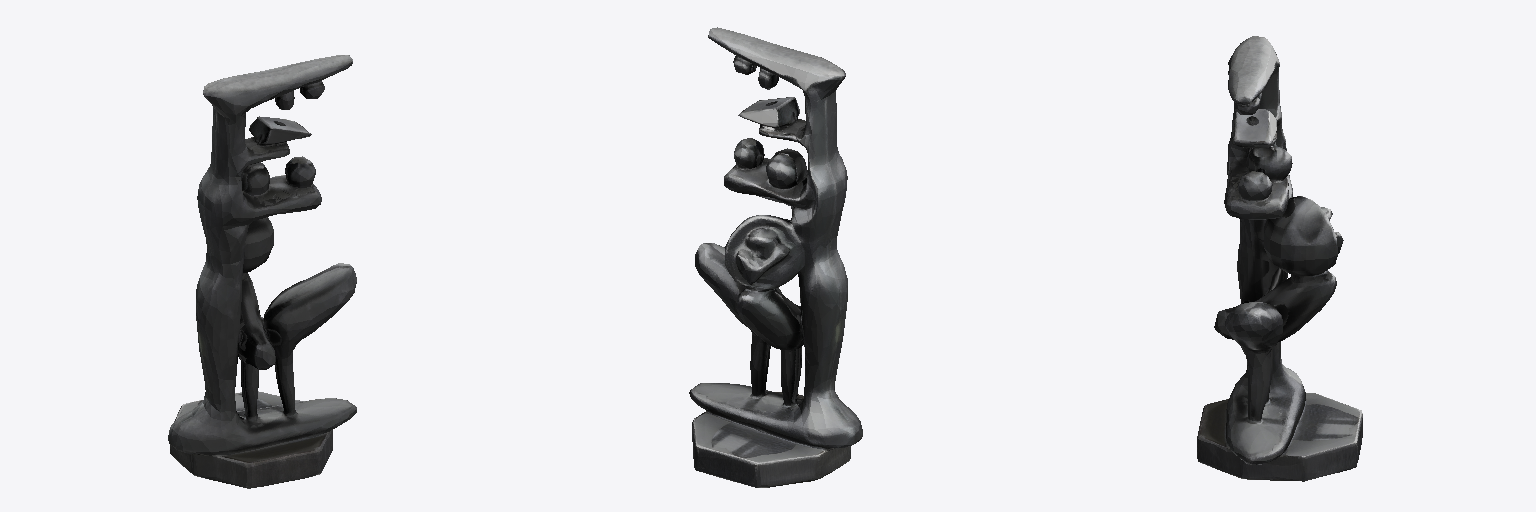
3 renders of one model, left to right at view 1: azimuth 30°, elevation 25°; view 2: azimuth 150°, elevation 25°; view 3: azimuth 270°, elevation 25°, orthographic.
Parts seen in each view (by area): view 1: Abstract_Harmony_[number redacted]_texture; view 2: Abstract_Harmony_[number redacted]_texture; view 3: Abstract_Harmony_[number redacted]_texture.
Boxes of the visible parts, box(x1,y1,x2,y2) form: Abstract_Harmony_[number redacted]_texture: box(168, 55, 356, 488); Abstract_Harmony_[number redacted]_texture: box(689, 27, 862, 487); Abstract_Harmony_[number redacted]_texture: box(1197, 36, 1362, 481).
Bounding box in the file's own units: 4.89 × 10.49 × 4.02.
Materials: 1 (1 with a texture image).